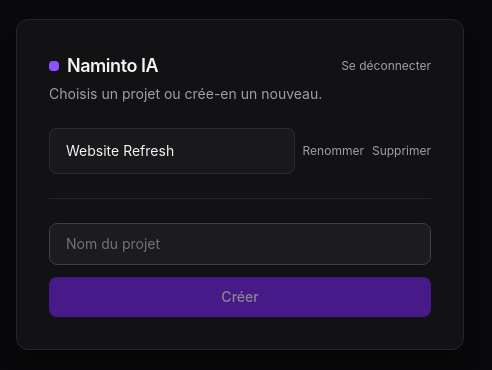
Test case: ProjectPicker › rename › renames a project and reloads the list with the new name
Check: the button "Website Refresh" is shown, box left=49, top=128, right=295, bottom=174
Click the button "Renommer". click: (333, 150)
box: left=303, top=142, right=364, bottom=158
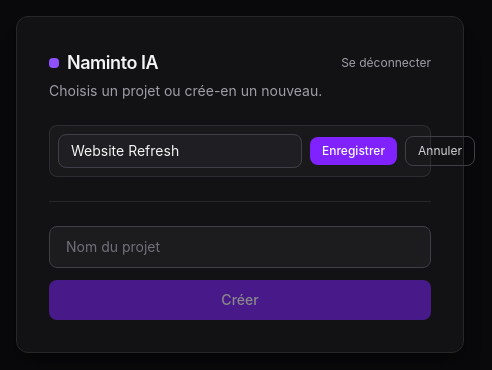
Replace the text in the field showing "Website Refresh" with "New Name". click: (180, 150)
box: left=58, top=134, right=302, bottom=168
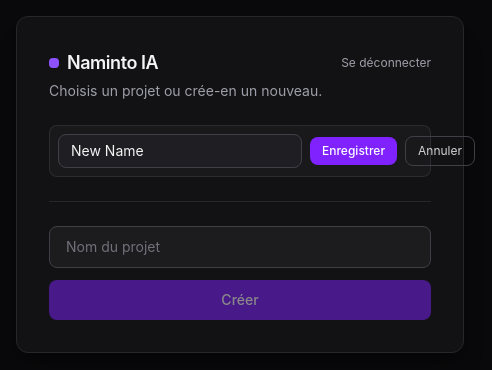
Click the button "Enregistrer". click: (354, 150)
box: left=310, top=136, right=397, bottom=164
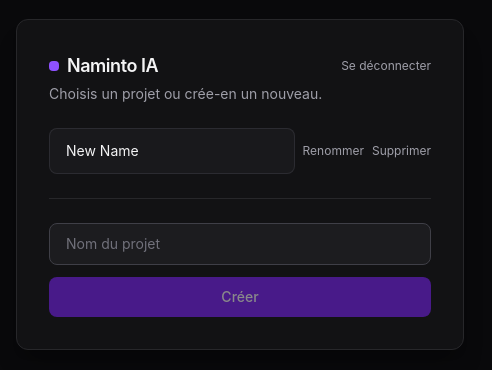
Check: the button "New Name" is shown, box left=49, top=128, right=295, bottom=174
